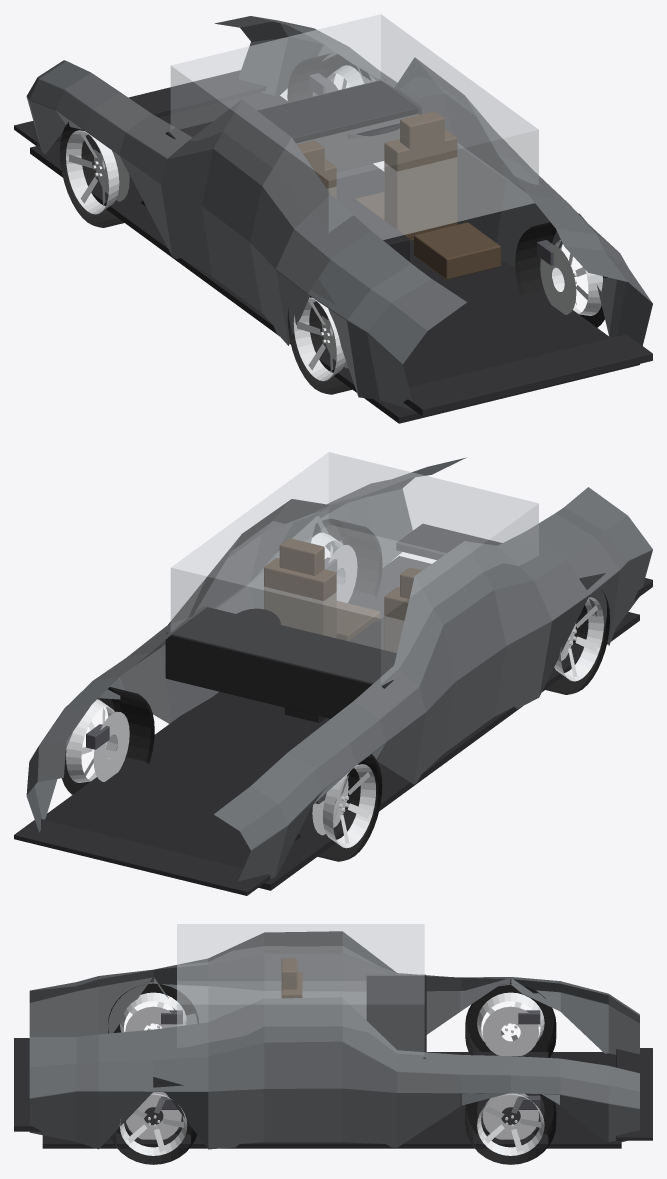
File: Car_Aston_Martin_DBS_V12_2000s_Complete.glb
3 views of the same model, one above another, from view 1: azimuth 30°, elevation 25°; view 2: azimuth 150°, elevation 25°; view 3: azimuth 270°, elevation 25° (orthographic). The views are drawn at different scales.
Parts seen in each view (by area): view 1: BODY_AstonMartin_DBS_MainShell, GLASS_AstonMartin_DBS, CHASSIS_BellyPan, INTERIOR_GTSeats, AERO_DBS_CarbonPack, INTERIOR_Dashboard, WHEEL_FR_Rim, WHEEL_RR_Rim, WHEEL_RL_Tire, WHEEL_FR_Tire, BRAKE_RL_Rotor, WHEEL_FL_Tire (+3 smaller); view 2: BODY_AstonMartin_DBS_MainShell, GLASS_AstonMartin_DBS, CHASSIS_BellyPan, INTERIOR_Dashboard, INTERIOR_GTSeats, AERO_DBS_CarbonPack, WHEEL_FR_Rim, WHEEL_FL_Tire, WHEEL_RL_Tire, WHEEL_RR_Rim, WHEEL_FL_Rim, WHEEL_FR_Tire (+4 smaller); view 3: BODY_AstonMartin_DBS_MainShell, GLASS_AstonMartin_DBS, CHASSIS_BellyPan, INTERIOR_Dashboard, AERO_DBS_CarbonPack, WHEEL_FR_Tire, BRAKE_FR_Rotor, WHEEL_FL_Tire, WHEEL_FL_Rim, WHEEL_RL_Rim, BRAKE_FL_Rotor, BRAKE_RL_Rotor (+6 smaller).
Part boxes in pixels (box(x1,y1,x2,y2)): BODY_AstonMartin_DBS_MainShell: box(26, 16, 652, 410); GLASS_AstonMartin_DBS: box(170, 14, 538, 239); CHASSIS_BellyPan: box(30, 92, 639, 423); INTERIOR_GTSeats: box(297, 111, 500, 279); AERO_DBS_CarbonPack: box(14, 70, 652, 416); INTERIOR_Dashboard: box(165, 79, 421, 261); WHEEL_FR_Rim: box(66, 130, 119, 214); WHEEL_RR_Rim: box(293, 297, 345, 381); WHEEL_RL_Tire: box(515, 222, 607, 327); WHEEL_FR_Tire: box(60, 122, 145, 227); BRAKE_RL_Rotor: box(540, 244, 576, 314); WHEEL_FL_Tire: box(287, 53, 371, 102); BODY_AstonMartin_DBS_MainShell: box(26, 457, 652, 881); GLASS_AstonMartin_DBS: box(170, 452, 538, 683); CHASSIS_BellyPan: box(44, 556, 639, 890); INTERIOR_Dashboard: box(165, 606, 396, 722); INTERIOR_GTSeats: box(264, 538, 421, 652); AERO_DBS_CarbonPack: box(14, 524, 652, 895); WHEEL_FR_Rim: box(323, 764, 375, 848); WHEEL_FL_Tire: box(62, 687, 154, 794); WHEEL_RL_Tire: box(312, 518, 382, 597); WHEEL_RR_Rim: box(554, 597, 603, 681); WHEEL_FL_Rim: box(66, 699, 117, 782); WHEEL_FR_Tire: box(294, 754, 382, 861); BODY_AstonMartin_DBS_MainShell: box(29, 931, 639, 1149); GLASS_AstonMartin_DBS: box(177, 924, 424, 1054); CHASSIS_BellyPan: box(42, 1052, 621, 1148); INTERIOR_Dashboard: box(366, 974, 426, 1058); AERO_DBS_CarbonPack: box(14, 1038, 652, 1140); WHEEL_FR_Tire: box(465, 983, 556, 1057); BRAKE_FR_Rotor: box(482, 1006, 539, 1055); WHEEL_FL_Tire: box(465, 1094, 556, 1164); WHEEL_FL_Rim: box(477, 1093, 544, 1155); WHEEL_RL_Rim: box(119, 1093, 187, 1155); BRAKE_FL_Rotor: box(482, 1093, 539, 1139); BRAKE_RL_Rotor: box(126, 1092, 181, 1139).
Size of the model in its own units: 1.96 by 1.28 by 4.9.
